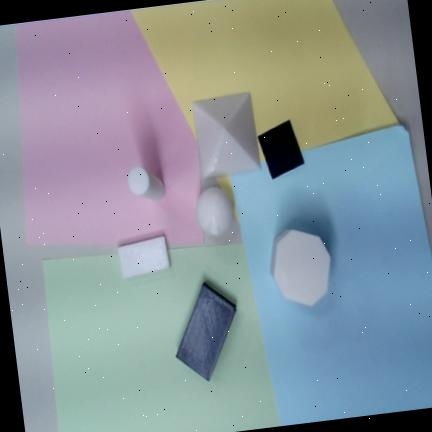Cilindro: (127, 166, 164, 201)
Esfera: (196, 187, 233, 236)
Paralelepipedo: (175, 281, 236, 382), (116, 236, 170, 278)
Piramide: (190, 92, 261, 179), (257, 119, 304, 179)
Prisma_hexagonal: (269, 228, 331, 306)
